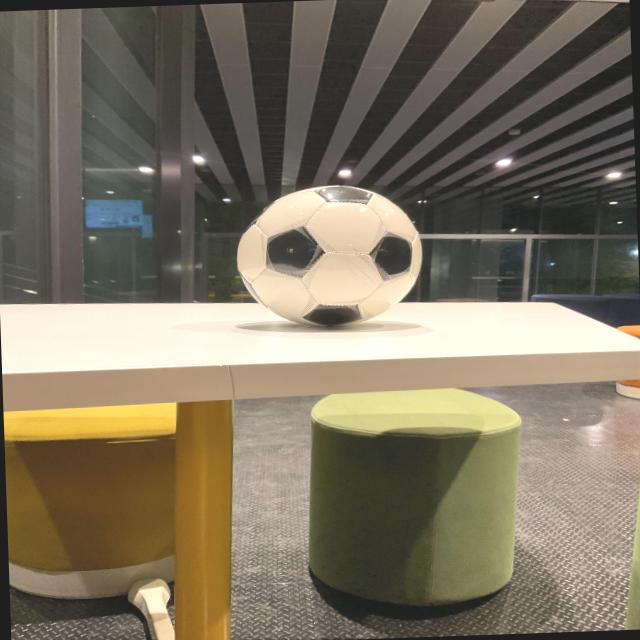Soccer Ball: (235, 181, 424, 328)
